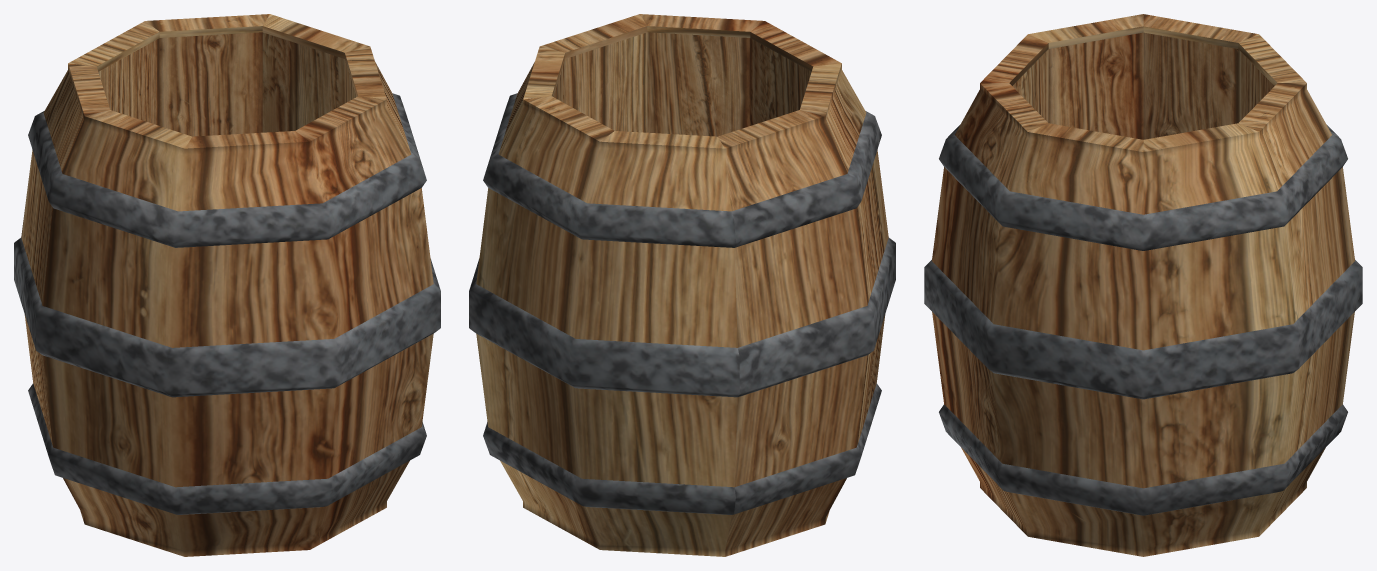
The model's file is BarrelOpen.fbx.
3 renders of one model, left to right at view 1: azimuth 30°, elevation 25°; view 2: azimuth 150°, elevation 25°; view 3: azimuth 270°, elevation 25°, orthographic.
Visible parts, largest first — view 1: BarrelOpen; view 2: BarrelOpen; view 3: BarrelOpen.
Boxes of the visible parts, x1,y1,x2,y2 form: BarrelOpen: (14,14,440,556); BarrelOpen: (469,14,895,556); BarrelOpen: (924,14,1362,556).
Size of the model in its own units: 6.41 by 6.53 by 6.41.
